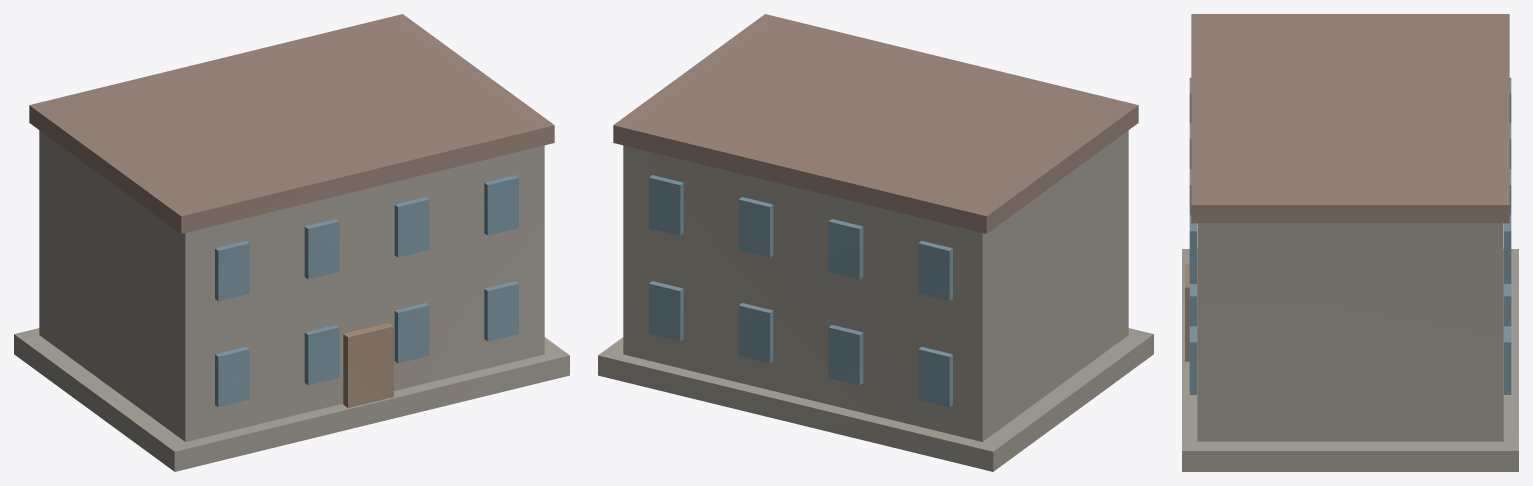
Rendered from warehouse-07.glb.
3 views of the same model, side by side, from view 1: azimuth 30°, elevation 25°; view 2: azimuth 150°, elevation 25°; view 3: azimuth 270°, elevation 25° (orthographic). The views are drawn at different scales.
Parts seen in each view (by area): view 1: world; view 2: world; view 3: world.
Boxes of the visible parts, x1,y1,x2,y2 form: world: [14, 14, 569, 471]; world: [598, 14, 1153, 471]; world: [1182, 14, 1518, 471].
Bounding box in the file's own units: 1.64 × 0.99 × 1.15.
